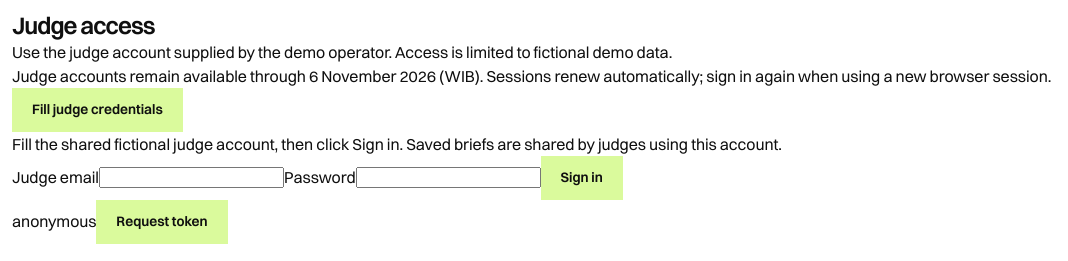
fills the shared judge credentials without submitting, then signs in explicitly
The image size is (1068, 261).
Click the button "Fill judge credentials". click: coordinates (97, 110)
box: top-left (12, 88), bottom-right (183, 132)
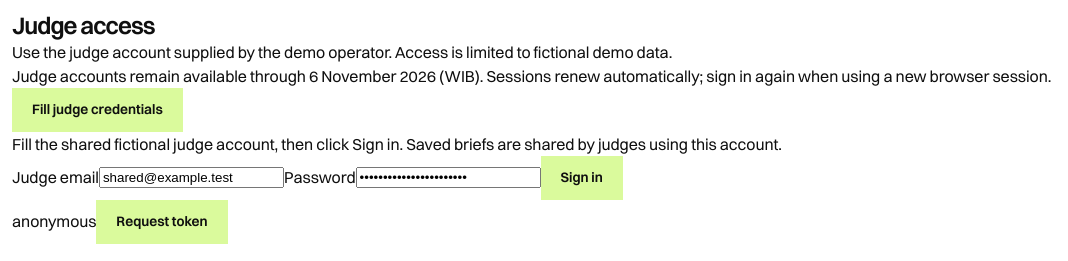
Check: the field labelled "Judge email" holds "shared@example.test", box top-left (99, 167), bottom-right (284, 188)
Check: the password field labelled "Password" holds "fictional-demo-password", box top-left (356, 167), bottom-right (540, 188)
Click the button "Sign in". click: coordinates (582, 178)
box: top-left (540, 156), bottom-right (623, 200)
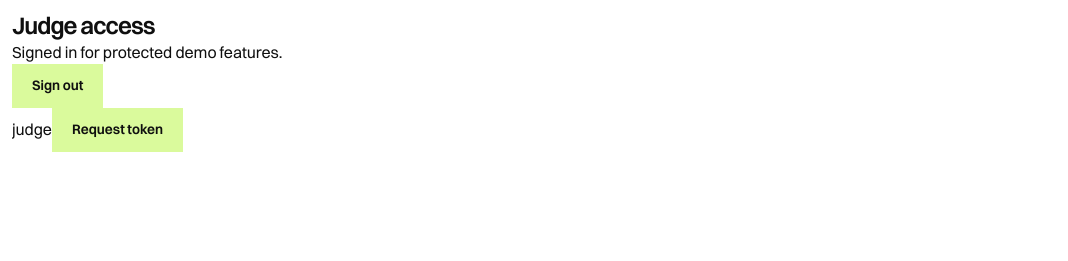
Check: the text "Signed in for protected demo features." is shown, box top-left (12, 42), bottom-right (282, 62)
